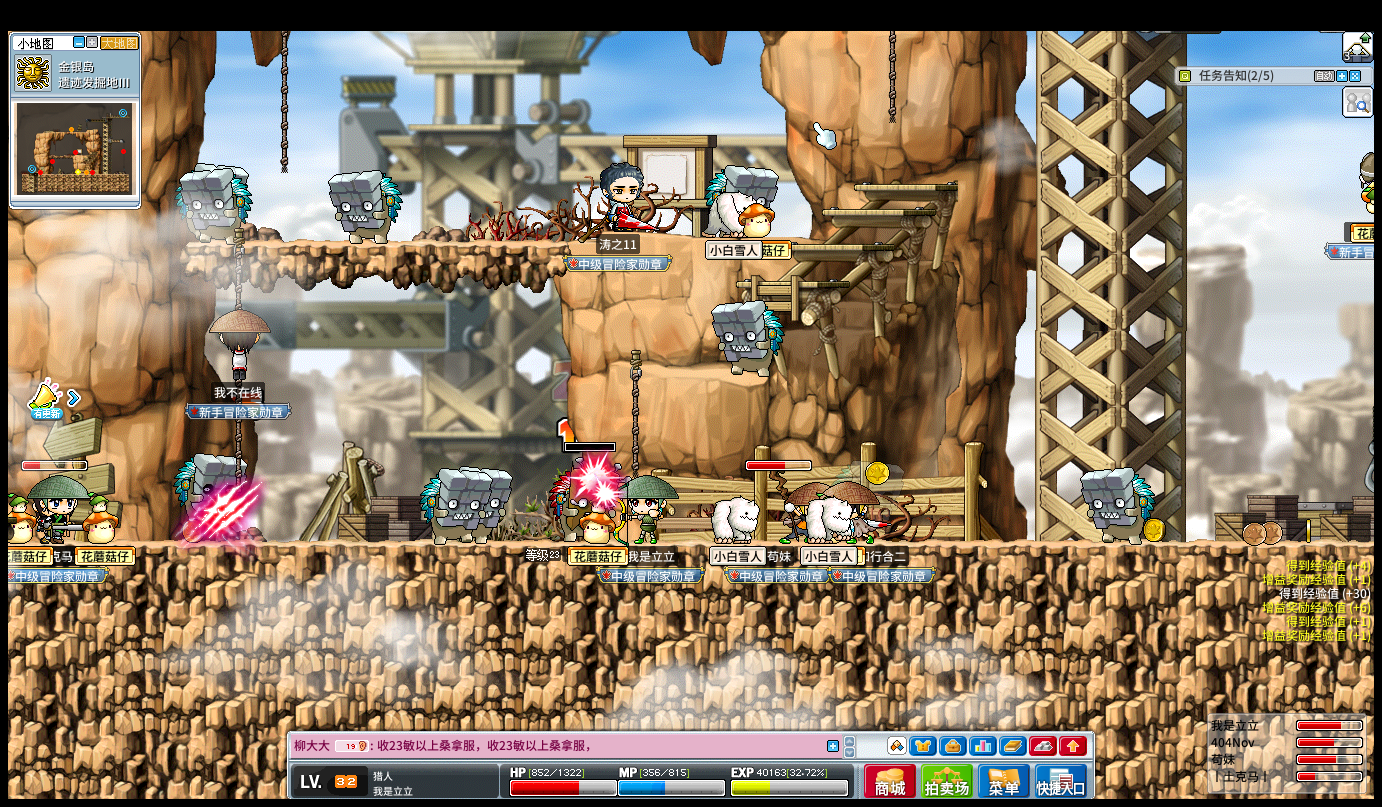floor: (8, 537, 1374, 550), (175, 238, 563, 251), (658, 368, 774, 388), (695, 239, 894, 249), (734, 279, 847, 291), (824, 206, 935, 215), (735, 280, 847, 288), (855, 184, 958, 192), (786, 243, 892, 250), (854, 183, 955, 189)
monster: (419, 467, 510, 545), (172, 452, 248, 538), (174, 167, 254, 245), (709, 300, 785, 379), (326, 168, 401, 244), (1081, 468, 1154, 545), (419, 467, 482, 544)
rope: (629, 346, 640, 470), (280, 31, 289, 174), (233, 235, 243, 312), (887, 31, 895, 125)
